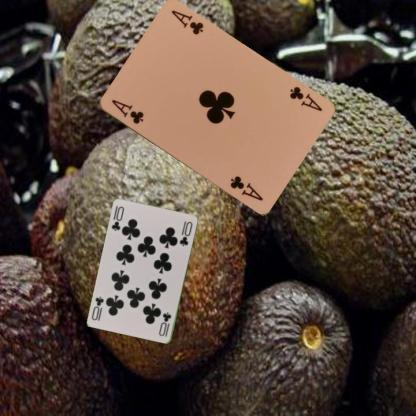10c: (110, 204, 126, 233), (156, 310, 172, 338)
Ac: (286, 84, 324, 113), (109, 96, 145, 126)
